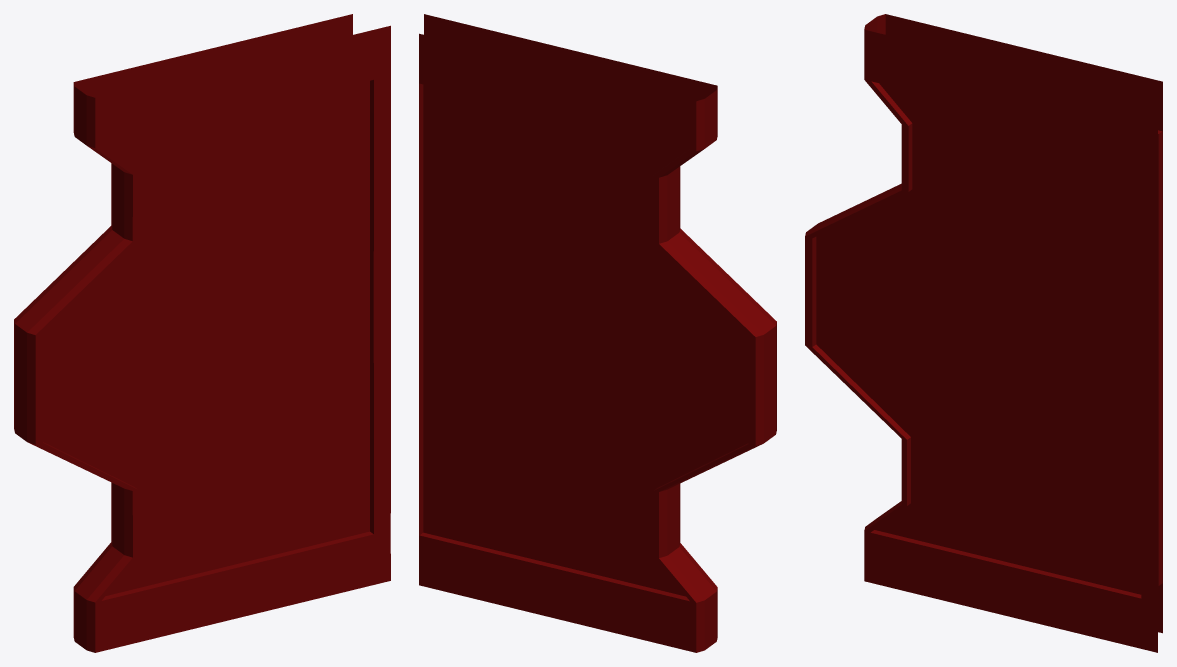
The model's file is DoorRight.FBX.
3 renders of one model, left to right at view 1: azimuth 30°, elevation 25°; view 2: azimuth 150°, elevation 25°; view 3: azimuth 330°, elevation 25°, orthographic.
Parts seen in each view (by area): view 1: DoorRight; view 2: DoorRight; view 3: DoorRight.
Boxes of the visible parts, box(x1,y1,x2,y2) form: DoorRight: box(14, 14, 390, 652); DoorRight: box(419, 14, 776, 652); DoorRight: box(805, 14, 1162, 652).
Size of the model in its own units: 5.57 by 8.23 by 0.5768.
